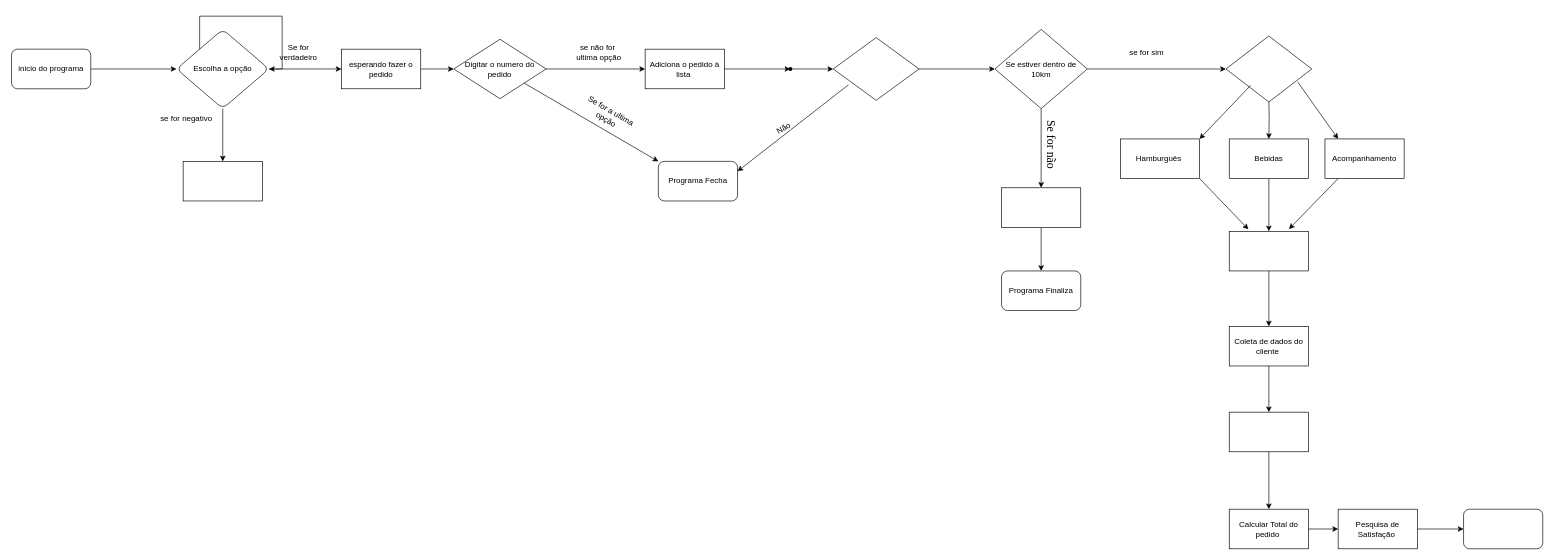
Some shapes in this 1554 by 560 pixel diagram are drawn without their labels. Here are the shapes that lost their labels. From the top down, the box of each, then its label:
(833, 37, 919, 100): Deseja continuar o pedido?
(1225, 35, 1312, 102): Escolher as opções
(182, 161, 262, 201): Não fazer nada
(1001, 187, 1081, 227): Não faz entrega
(1229, 231, 1308, 271): Receber pedidos do cliente
(1229, 412, 1308, 452): Definir Tempo de Entrega
(1463, 509, 1543, 549): Finalizando o programa
